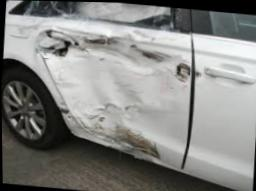Door: (21, 14, 193, 173), (22, 1, 177, 29)
Fender: (11, 14, 38, 59)
